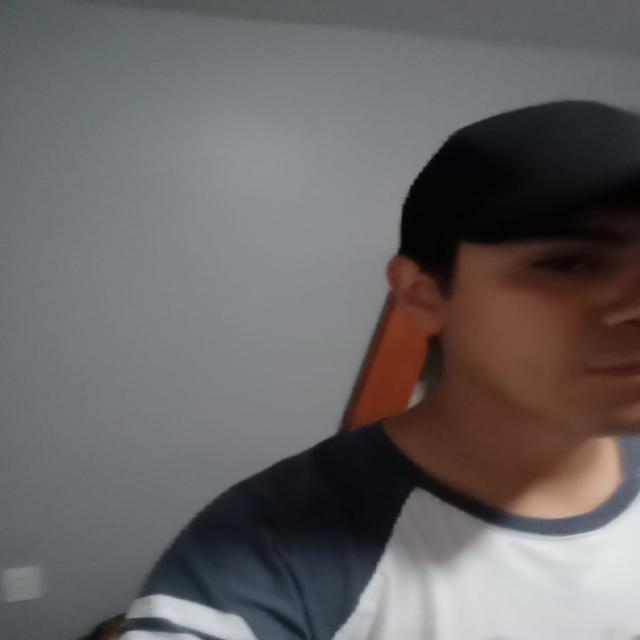ear: (387, 255, 452, 334)
